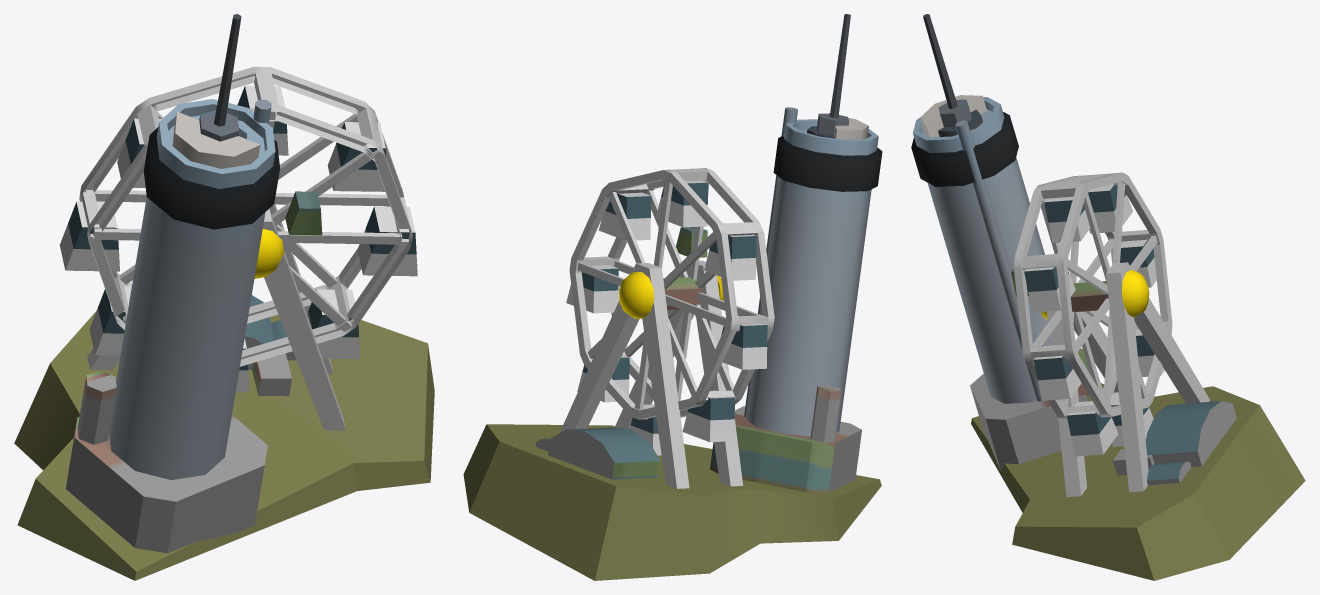
Rendered from ATLANTA_lv01.fbx.
3 renders of one model, left to right at view 1: azimuth 30°, elevation 25°; view 2: azimuth 150°, elevation 25°; view 3: azimuth 270°, elevation 25°, orthographic. The views are drawn at different scales.
Visible parts, largest first — view 1: ATLANTA_lv01; view 2: ATLANTA_lv01; view 3: ATLANTA_lv01.
Boxes of the visible parts, x1,y1,x2,y2 form: ATLANTA_lv01: [14, 14, 434, 580]; ATLANTA_lv01: [463, 14, 882, 580]; ATLANTA_lv01: [911, 14, 1305, 580].
Size of the model in its own units: 8831 by 10653 by 8725.
